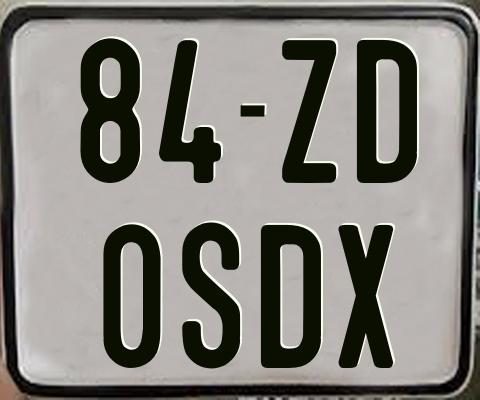0: (101, 221, 161, 371)
4: (157, 38, 225, 183)
8: (77, 37, 140, 185)
D: (355, 37, 421, 183), (259, 225, 320, 372)
S: (180, 220, 240, 367)
X: (337, 223, 397, 371)
Z: (279, 40, 336, 183)
